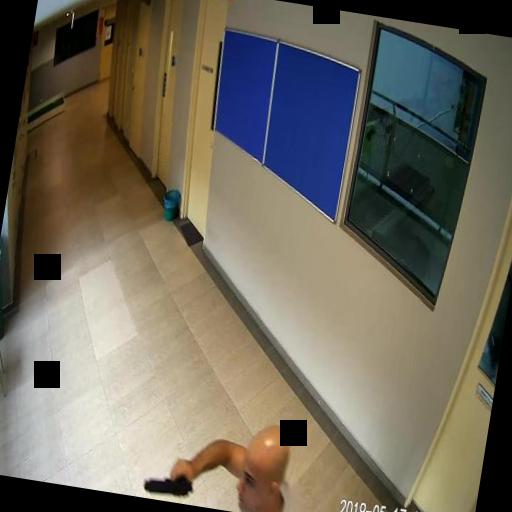Handgun: (140, 450, 196, 498)
